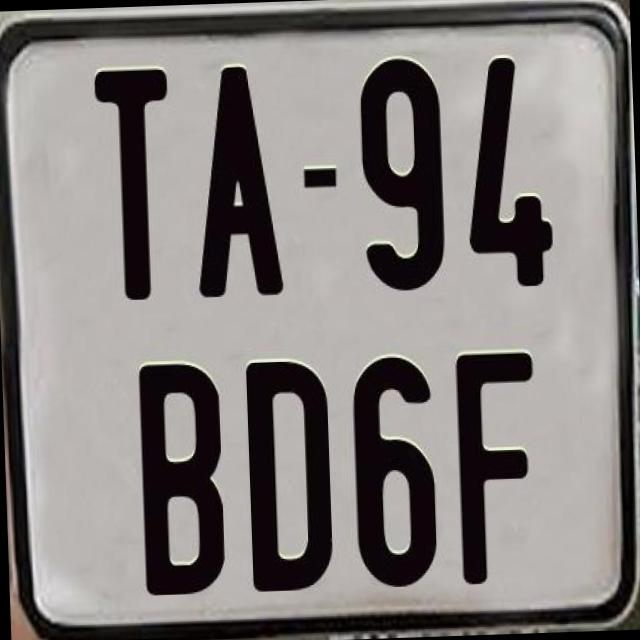4: (463, 52, 559, 292)
6: (348, 354, 434, 590)
9: (356, 56, 448, 301)
A: (187, 64, 283, 302)
B: (135, 357, 229, 597)
D: (243, 356, 331, 594)
F: (455, 350, 547, 592)
T: (90, 63, 172, 302)
